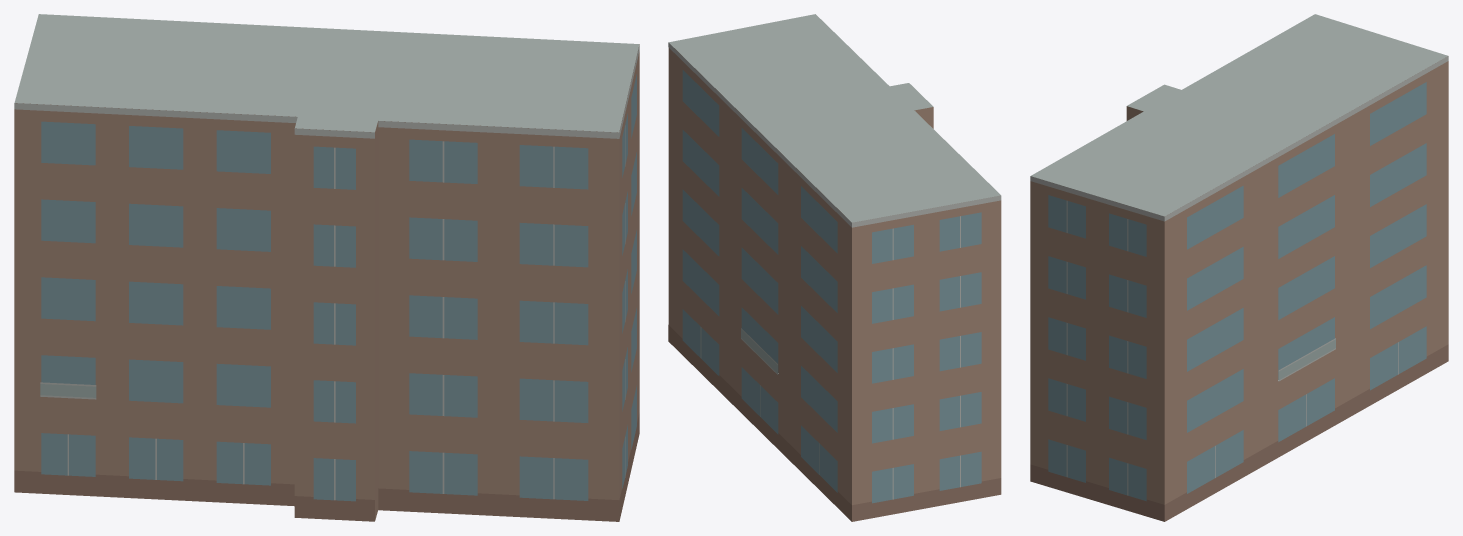
The model's file is survey-upis-32704818.glb.
The picture shows the model from 3 angles, left to right: view 1: azimuth 30°, elevation 25°; view 2: azimuth 150°, elevation 25°; view 3: azimuth 270°, elevation 25°; orthographic projection. The views are drawn at different scales.
Parts seen in each view (by area): view 1: survey-upis-32704818.tmp; view 2: survey-upis-32704818.tmp; view 3: survey-upis-32704818.tmp.
Boxes of the visible parts, x1,y1,x2,y2 form: survey-upis-32704818.tmp: (14, 14, 639, 521); survey-upis-32704818.tmp: (668, 14, 1001, 521); survey-upis-32704818.tmp: (1030, 14, 1448, 521).
Bounding box in the file's own units: 21.06 × 14.8 × 18.37.
